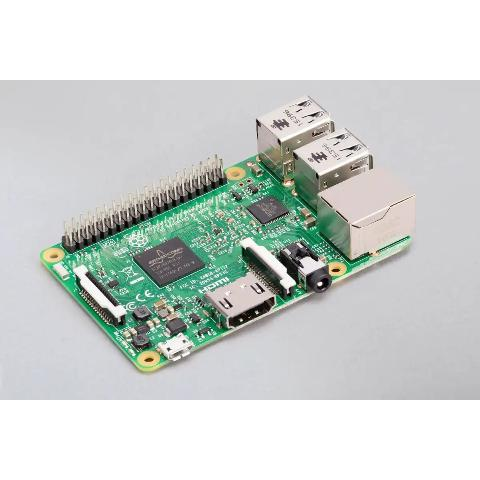Raspberry-Pi-3-Model-B: (36, 96, 422, 378)
